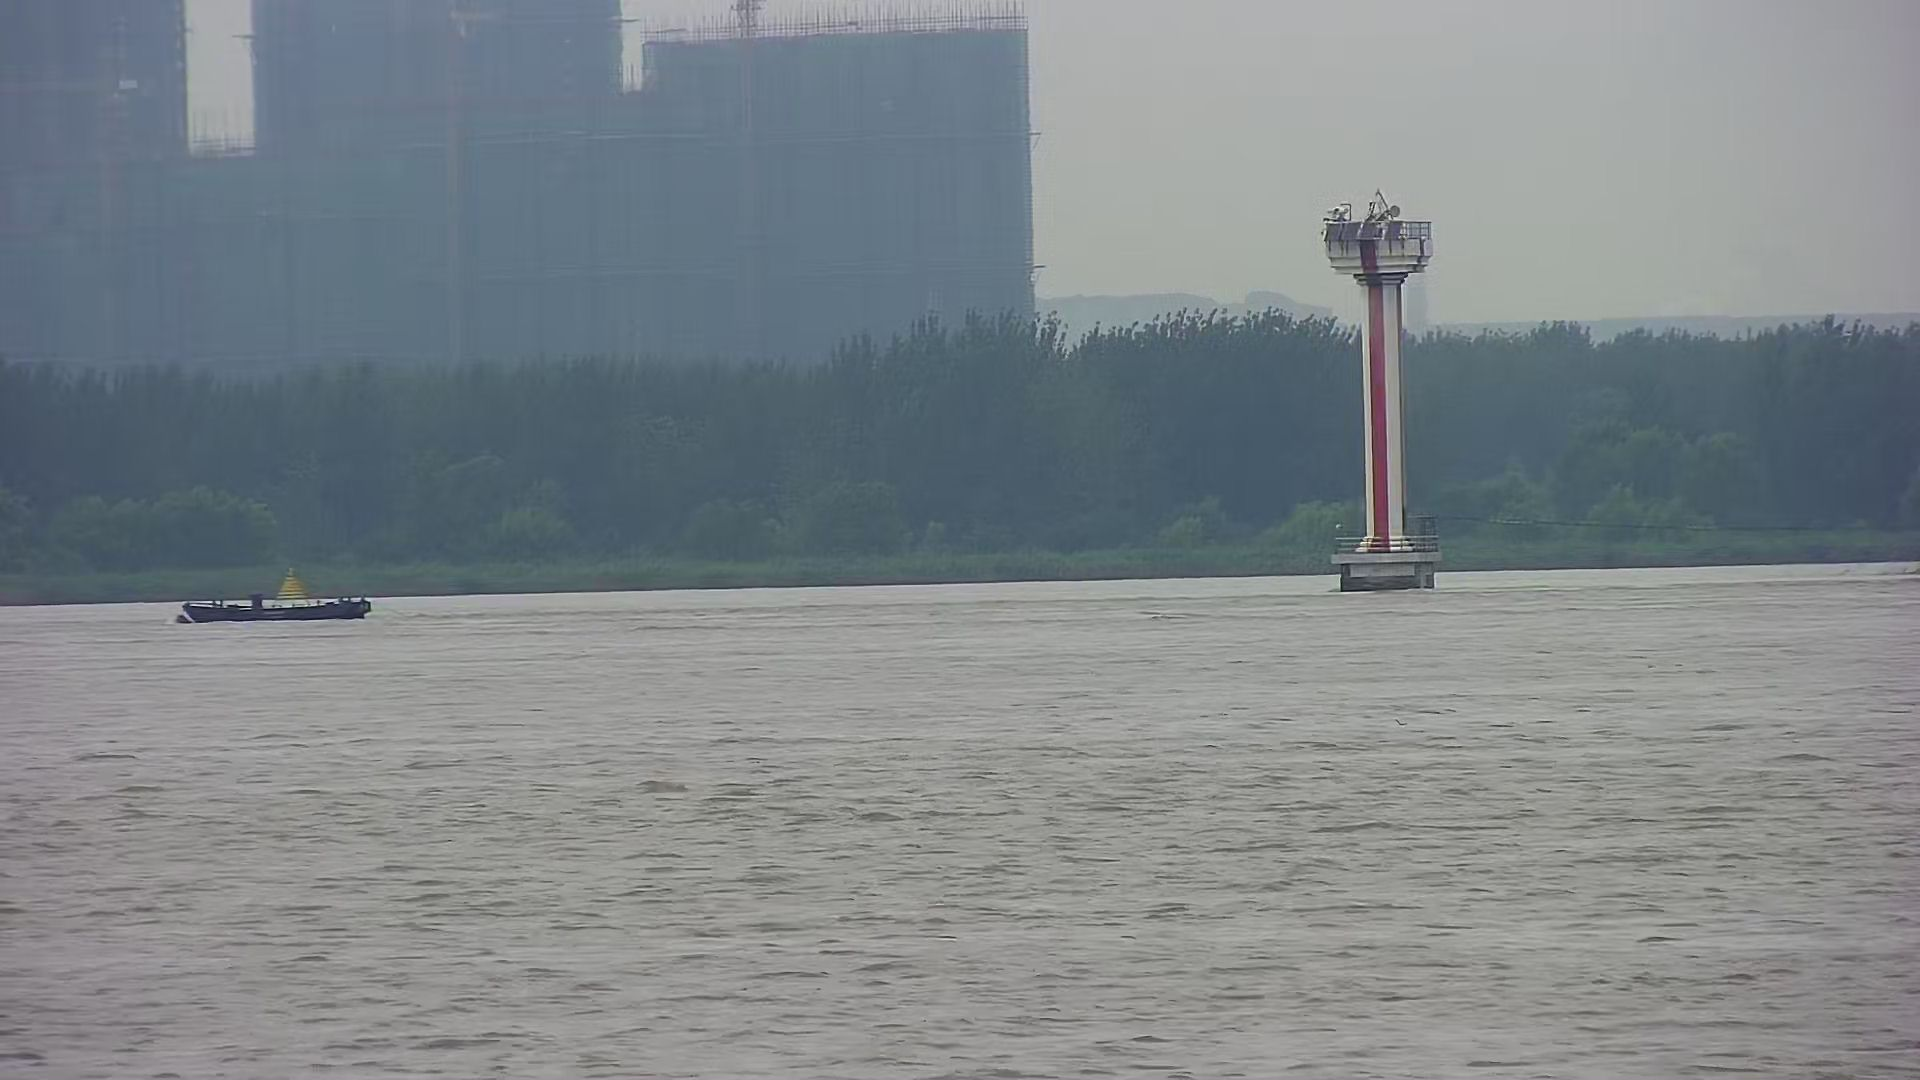boat: (171, 564, 367, 622)
platform: (1317, 194, 1443, 591)
